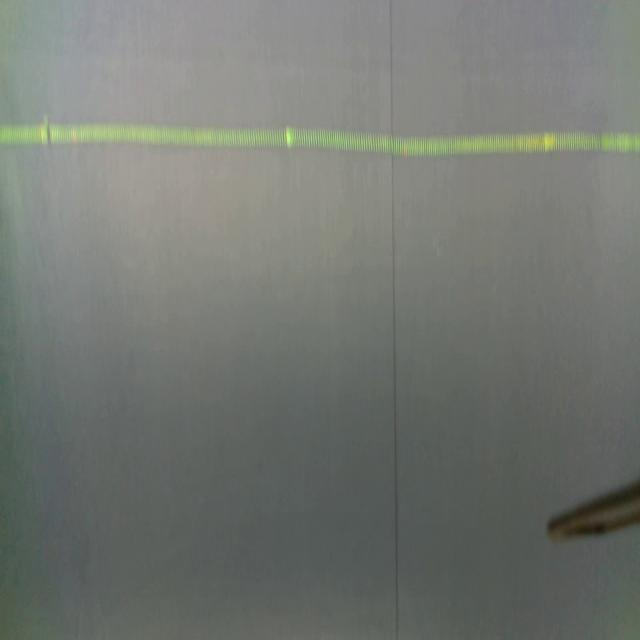crease: (387, 0, 402, 640)
